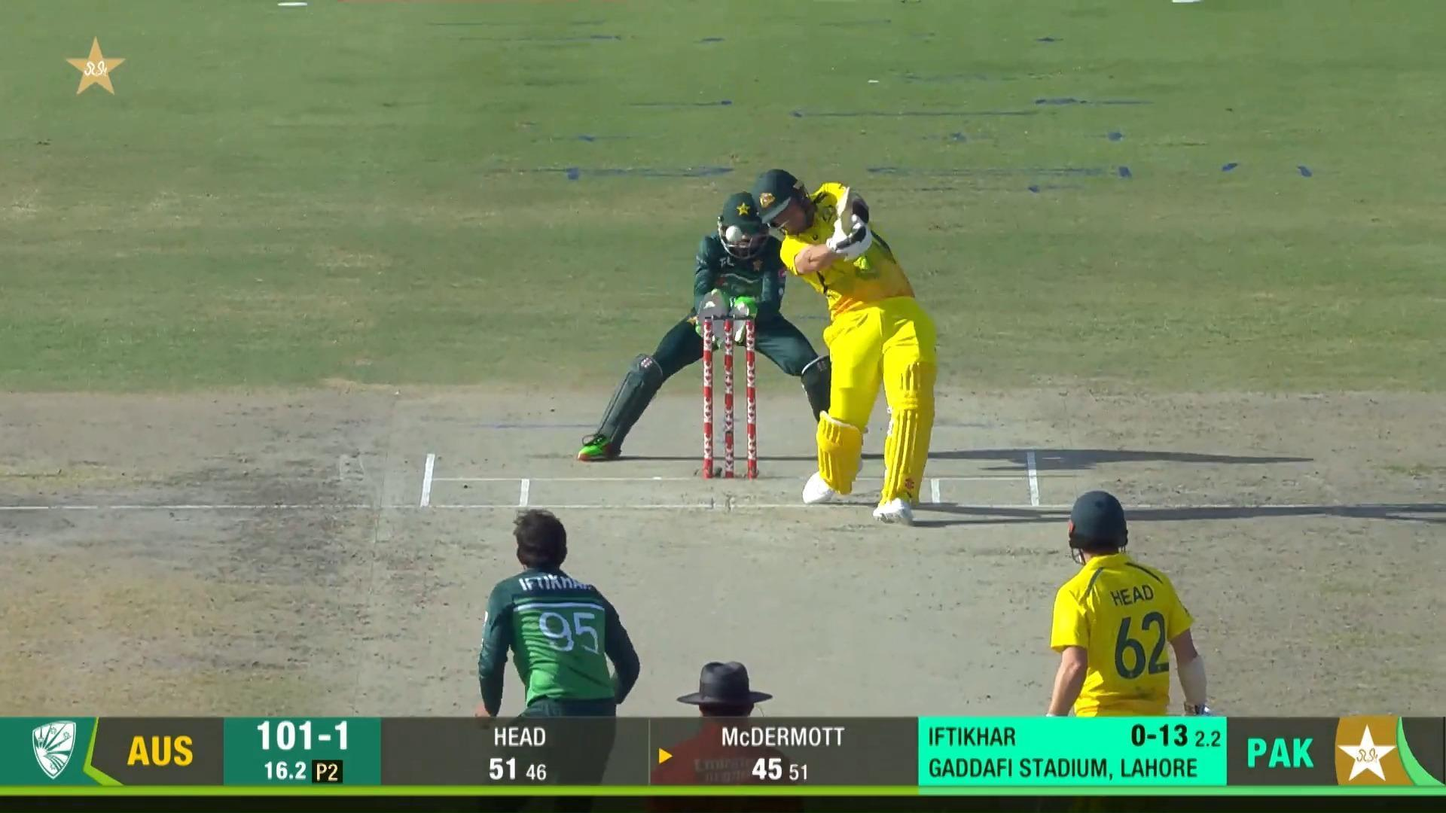BM 1: (749, 165, 938, 526)
BO: (475, 506, 642, 718)
